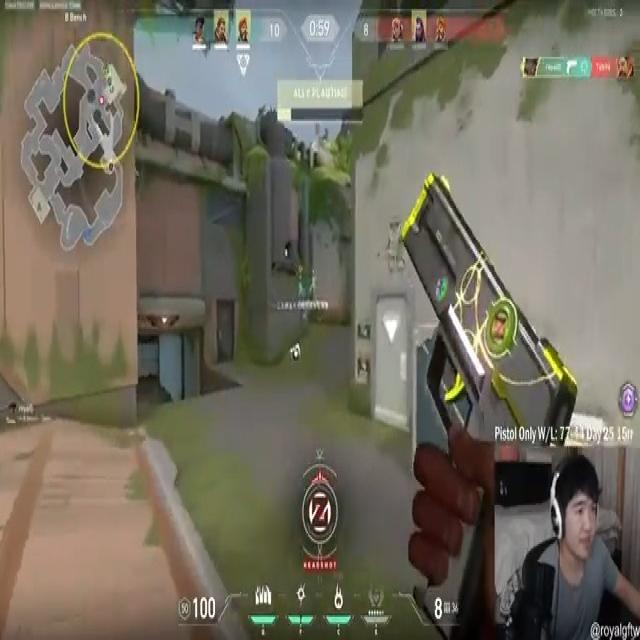ally behind wall: (310, 274, 318, 295), (298, 278, 304, 298)
orb: (291, 342, 301, 360)
